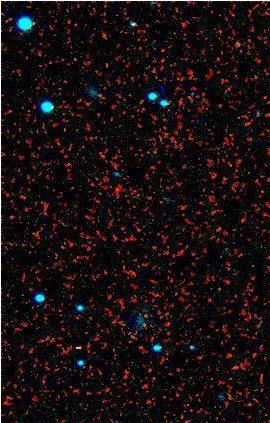star: (64, 333, 94, 363)
